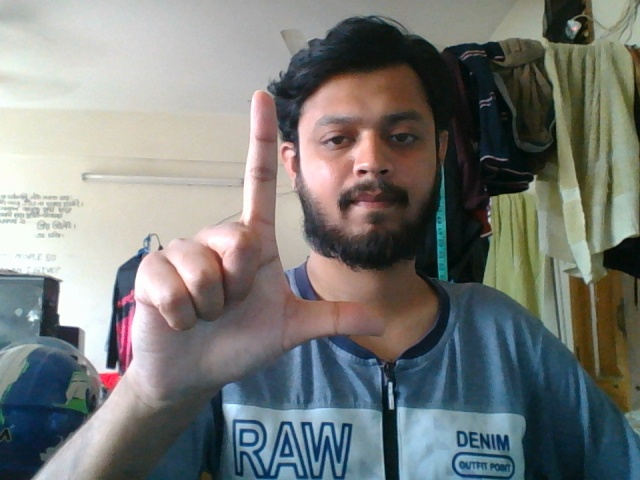la: (114, 87, 388, 411)
